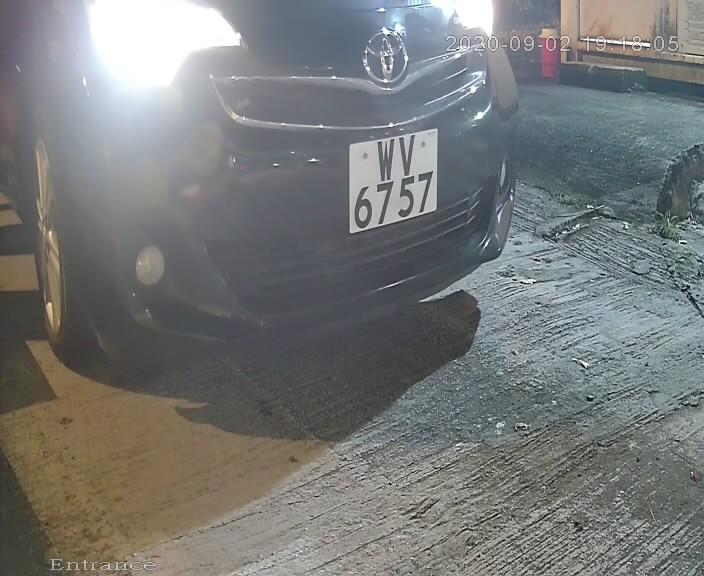License Plate: (331, 114, 450, 247)
